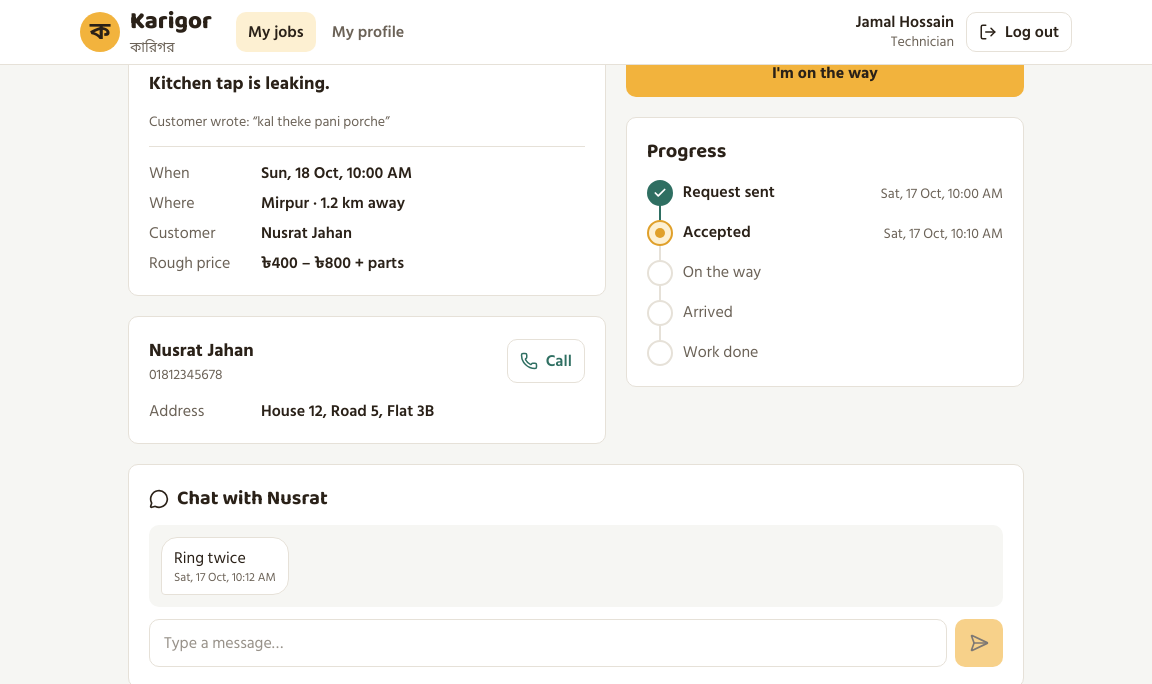
Scenario: Job chat › lets the technician chat once the job is accepted
The image size is (1152, 684).
(page scrolled)
Expected: the text "Ring twice" is shown, [174,545,246,571]
Type "On my way" into the field named "Message to Nusrat" at (548, 643), box [149,619,947,667]
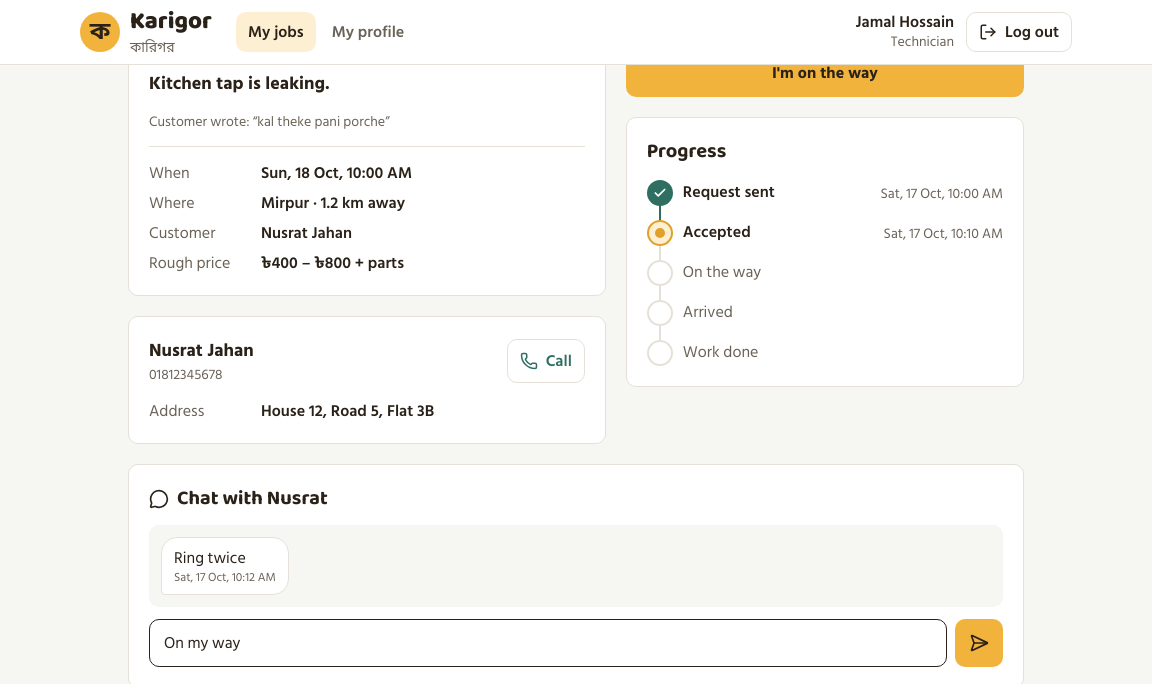
Click the button named "Send" at (979, 643), box [955,619,1003,667]
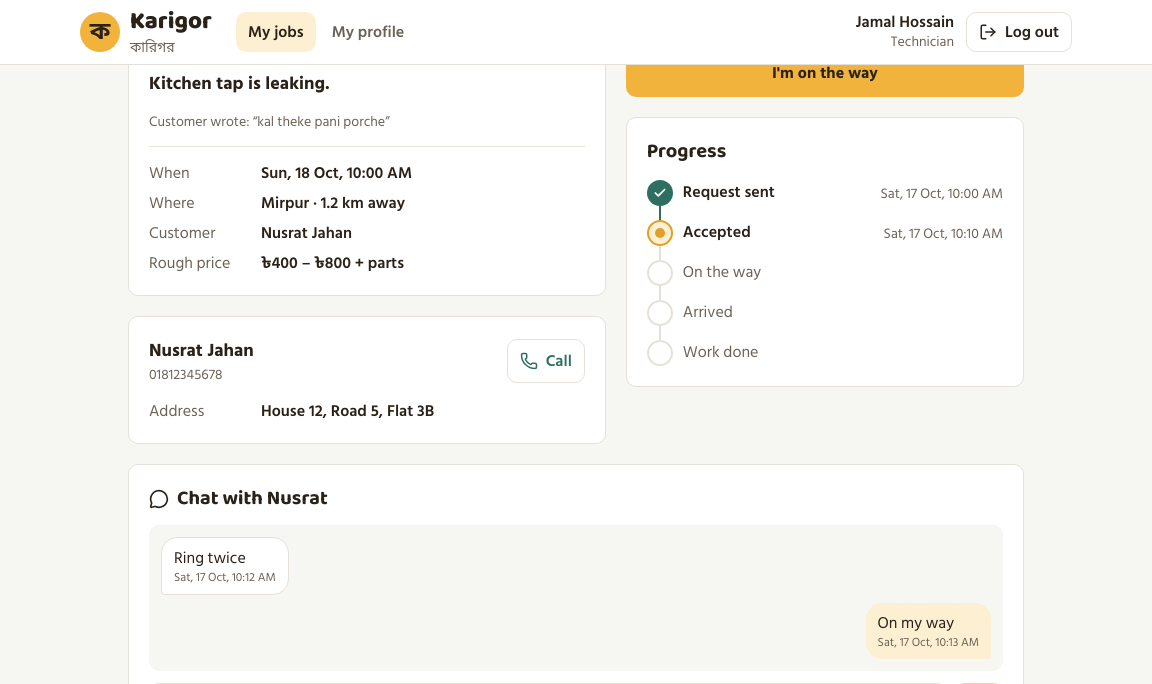
Now the text "On my way" is shown, box [878,610,954,636]
